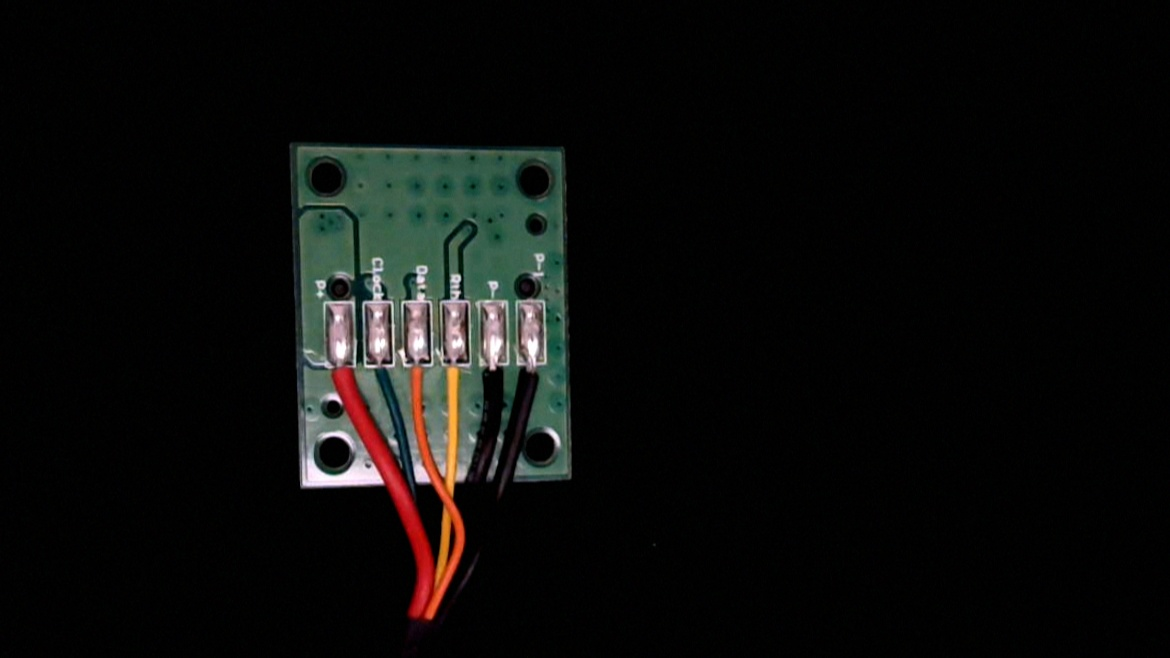Black: (475, 346, 509, 421)
Black1: (515, 348, 548, 417)
Green: (364, 345, 396, 403)
Orange: (402, 347, 434, 412)
Red: (326, 342, 361, 415)
Yellow: (437, 347, 470, 424)
